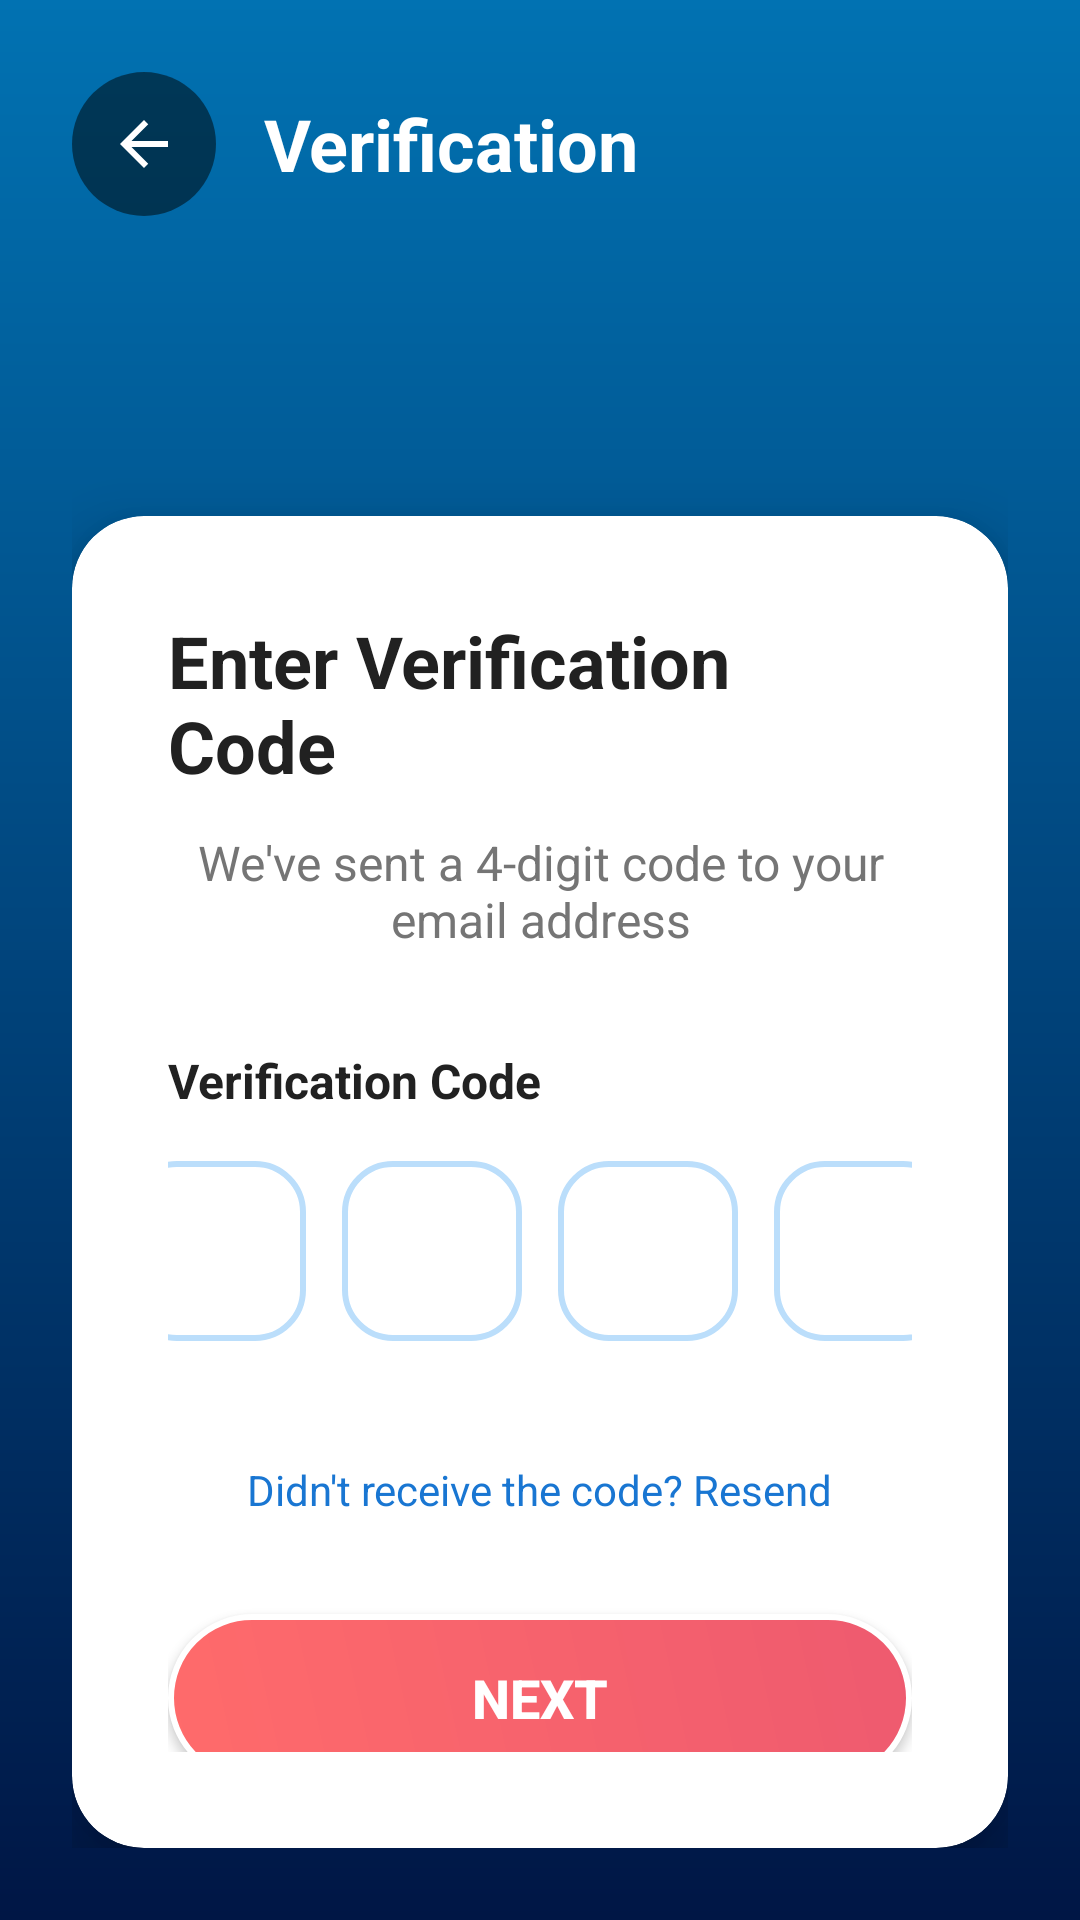

Icon click points for this 1080x1920 phone screenshot, format (x,y):
Back button: (144,144)
